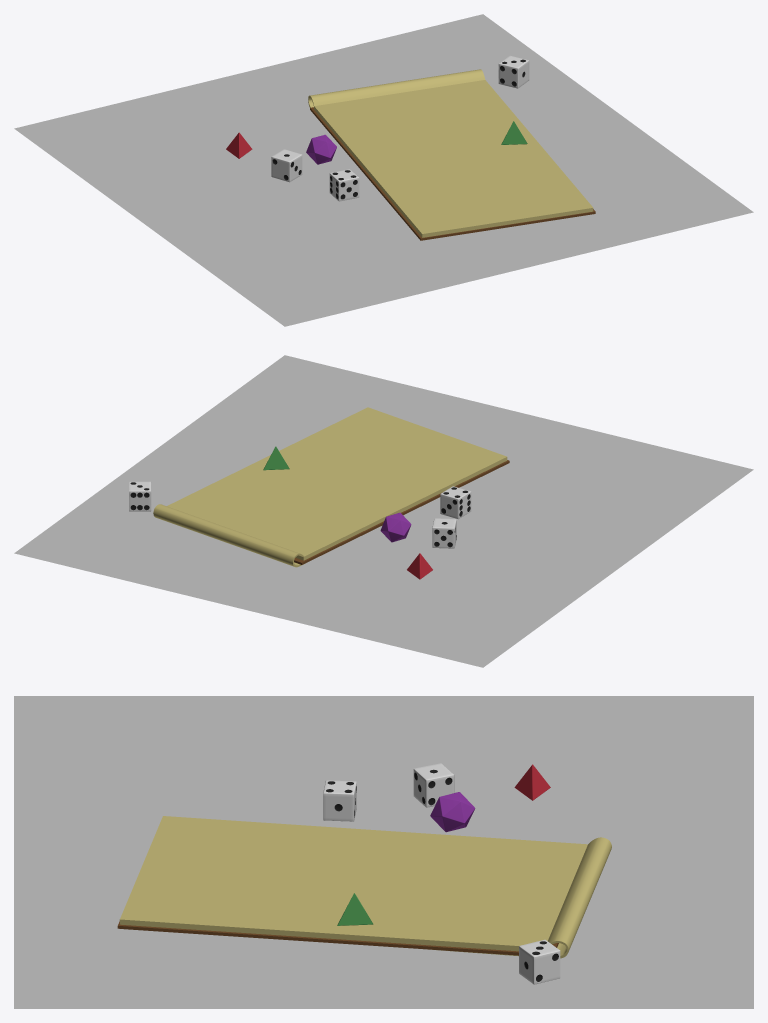
The model's file is Lore.fbx.
The picture shows the model from 3 angles, top to bottom: view 1: azimuth 30°, elevation 25°; view 2: azimuth 150°, elevation 25°; view 3: azimuth 270°, elevation 25°; orthographic projection. The views are drawn at different scales.
Parts seen in each view (by area): view 1: pPlane1, pCube5, pCube7, pCube6, pCube1, pPlatonic1; view 2: pPlane1, pCube5, pCube1, pCube6, pCube7, pPlatonic1; view 3: pPlane1, pCube5, pCube7, pCube6, pCube1, pPlatonic1, pPyramid1, pPyramid2.
Part boxes in pixels (left/top/right/bottom): pPlane1: left=14, top=14, right=753, bottom=326; pCube5: left=308, top=69, right=595, bottom=240; pCube7: left=498, top=55, right=529, bottom=88; pCube6: left=271, top=149, right=302, bottom=182; pCube1: left=329, top=169, right=359, bottom=201; pPlatonic1: left=306, top=134, right=336, bottom=164; pPlane1: left=14, top=355, right=753, bottom=667; pCube5: left=153, top=407, right=509, bottom=567; pCube1: left=440, top=486, right=471, bottom=519; pCube6: left=432, top=518, right=456, bottom=548; pCube7: left=129, top=481, right=151, bottom=511; pPlatonic1: left=380, top=512, right=411, bottom=542; pPlane1: left=14, top=696, right=753, bottom=1008; pCube5: left=117, top=816, right=611, bottom=958; pCube7: left=519, top=939, right=560, bottom=984; pCube6: left=413, top=763, right=454, bottom=807; pCube1: left=323, top=780, right=356, bottom=821; pPlatonic1: left=430, top=792, right=475, bottom=832; pPyramid1: left=514, top=764, right=550, bottom=800; pPyramid2: left=337, top=893, right=373, bottom=925.
Size of the model in its own units: 23.83 by 1.37 by 23.83.
